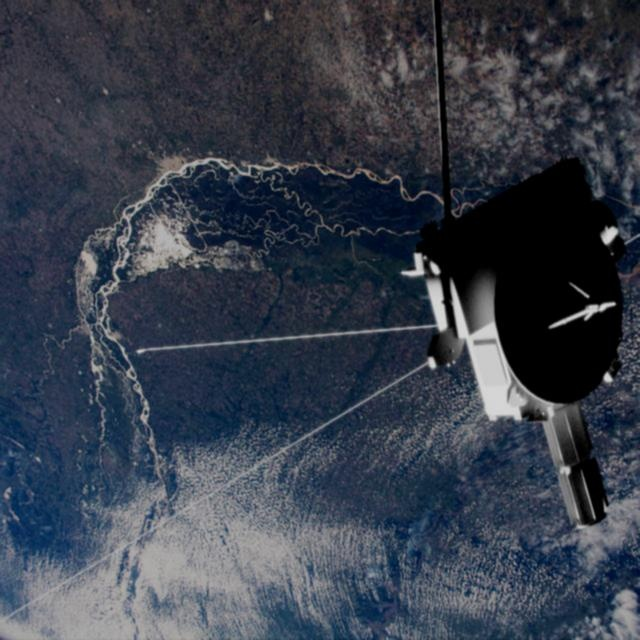satellite: (361, 123, 640, 543)
